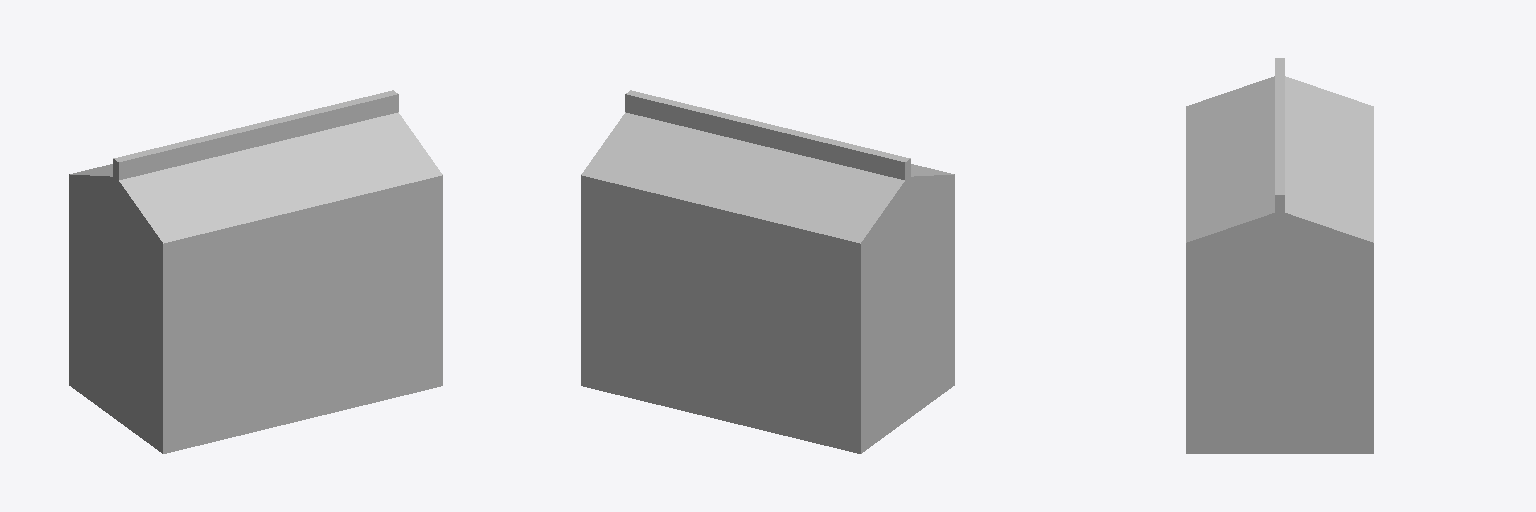
Rendered from chickenstock.obj.
3 renders of one model, left to right at view 1: azimuth 30°, elevation 25°; view 2: azimuth 150°, elevation 25°; view 3: azimuth 270°, elevation 25°, orthographic.
Visible parts, largest first — view 1: pCube1; view 2: pCube1; view 3: pCube1.
Part boxes in pixels (left/top/right/bottom): pCube1: left=69, top=90, right=442, bottom=453; pCube1: left=581, top=90, right=954, bottom=453; pCube1: left=1186, top=58, right=1373, bottom=453.
Size of the model in its own units: 1.36 by 1.2 by 0.7925.